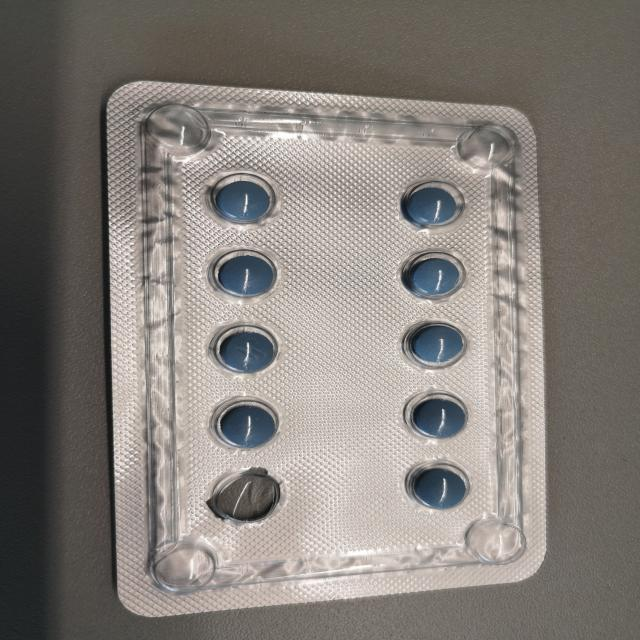Empty: (197, 462, 301, 529)
Pill: (200, 312, 304, 386), (197, 238, 299, 310), (366, 169, 478, 234), (196, 165, 294, 230), (392, 242, 482, 308), (202, 391, 294, 453), (398, 453, 479, 517), (402, 385, 480, 449), (397, 316, 482, 374)
